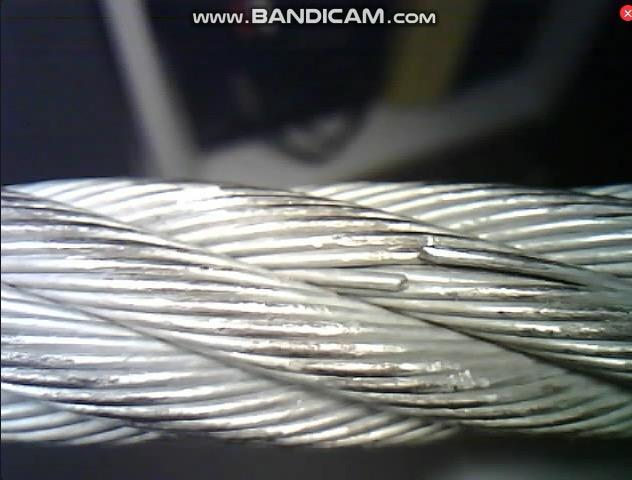break: (382, 234, 449, 298)
